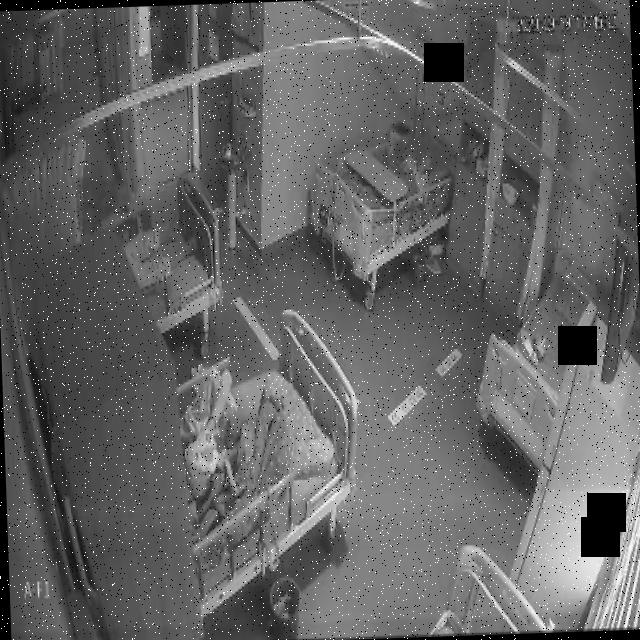bed: (174, 314, 358, 585), (308, 113, 456, 270), (481, 250, 594, 434), (120, 171, 224, 325)
lie: (178, 370, 246, 525), (125, 214, 198, 286)
patient: (178, 368, 246, 522), (124, 214, 197, 288), (396, 139, 438, 194)
